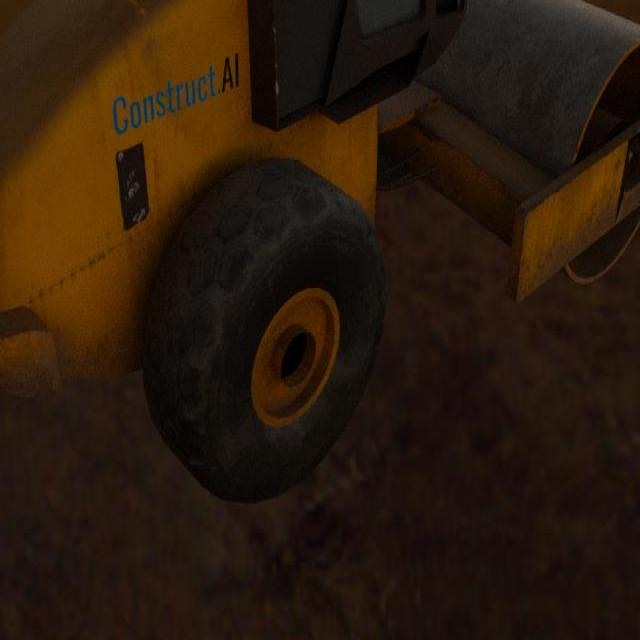Roller: (0, 0, 640, 504)
